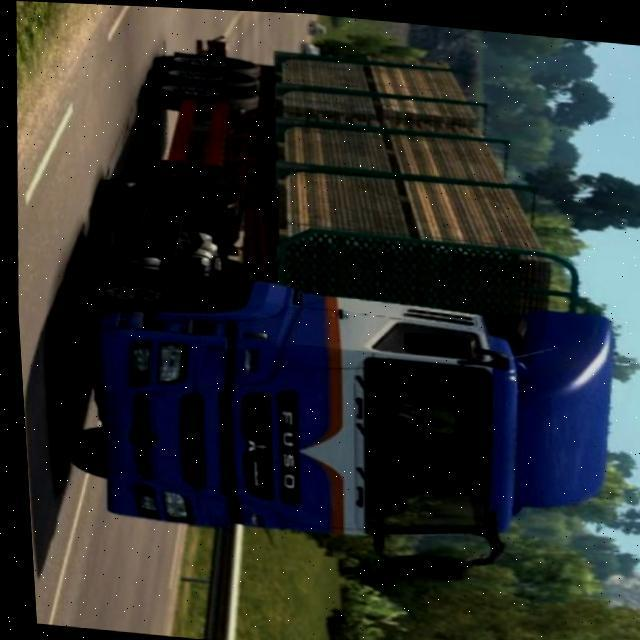truck: (42, 19, 636, 585)
